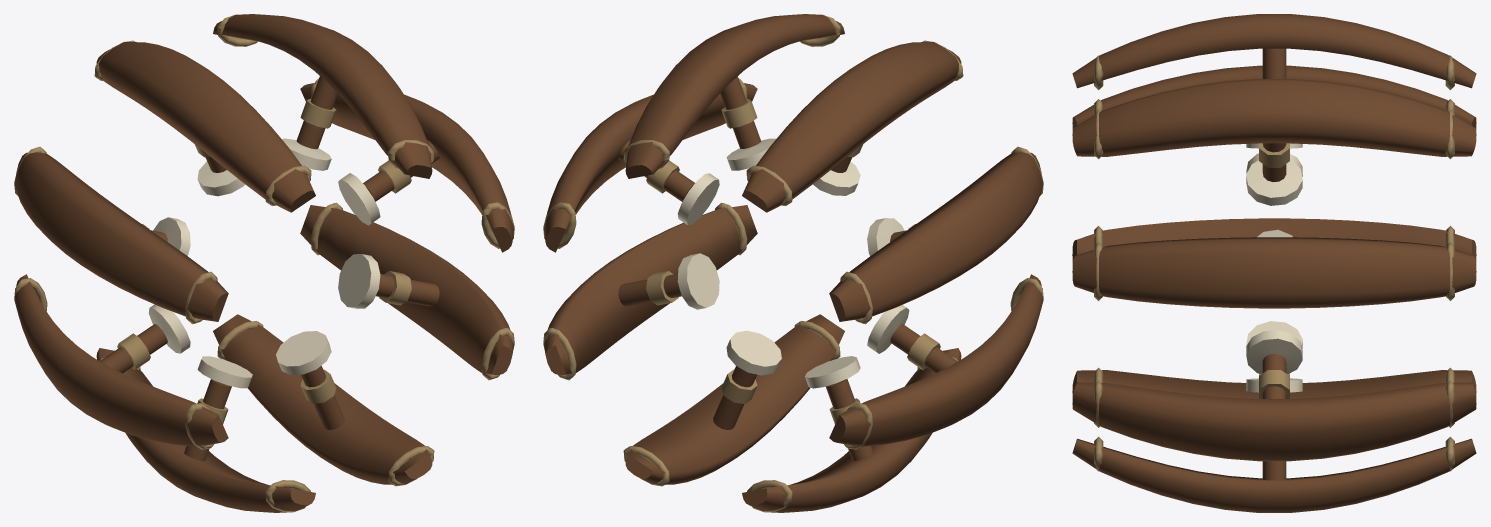
Rendered from k12_dampers.obj.
3 views of the same model, side by side, from view 1: azimuth 30°, elevation 25°; view 2: azimuth 150°, elevation 25°; view 3: azimuth 270°, elevation 25° (orthographic). The views are drawn at different scales.
Visible parts, largest first — view 1: k12_dampers; view 2: k12_dampers; view 3: k12_dampers.
Boxes of the visible parts, <box> form: k12_dampers: <box>14,14,514,512</box>; k12_dampers: <box>543,14,1043,512</box>; k12_dampers: <box>1072,14,1476,512</box>.
Bounding box in the file's own units: 3.16 × 3.16 × 2.7.
